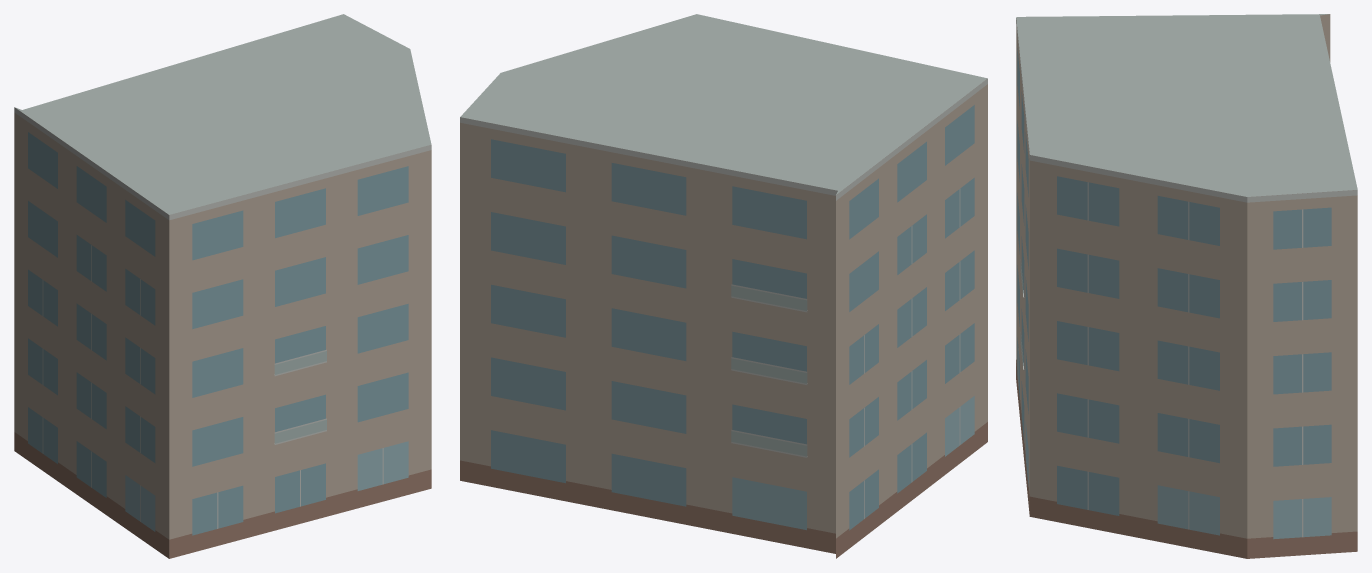
File: survey-upis-32838192.glb
3 renders of one model, left to right at view 1: azimuth 30°, elevation 25°; view 2: azimuth 150°, elevation 25°; view 3: azimuth 270°, elevation 25°, orthographic. The views are drawn at different scales.
Parts seen in each view (by area): view 1: survey-upis-32838192.tmp; view 2: survey-upis-32838192.tmp; view 3: survey-upis-32838192.tmp.
Part boxes in pixels (x1,y1,x2,y2): survey-upis-32838192.tmp: (14,14,431,558); survey-upis-32838192.tmp: (460,14,987,558); survey-upis-32838192.tmp: (1016,14,1357,558).
Bounding box in the file's own units: 17.04 × 15.7 × 13.44.
